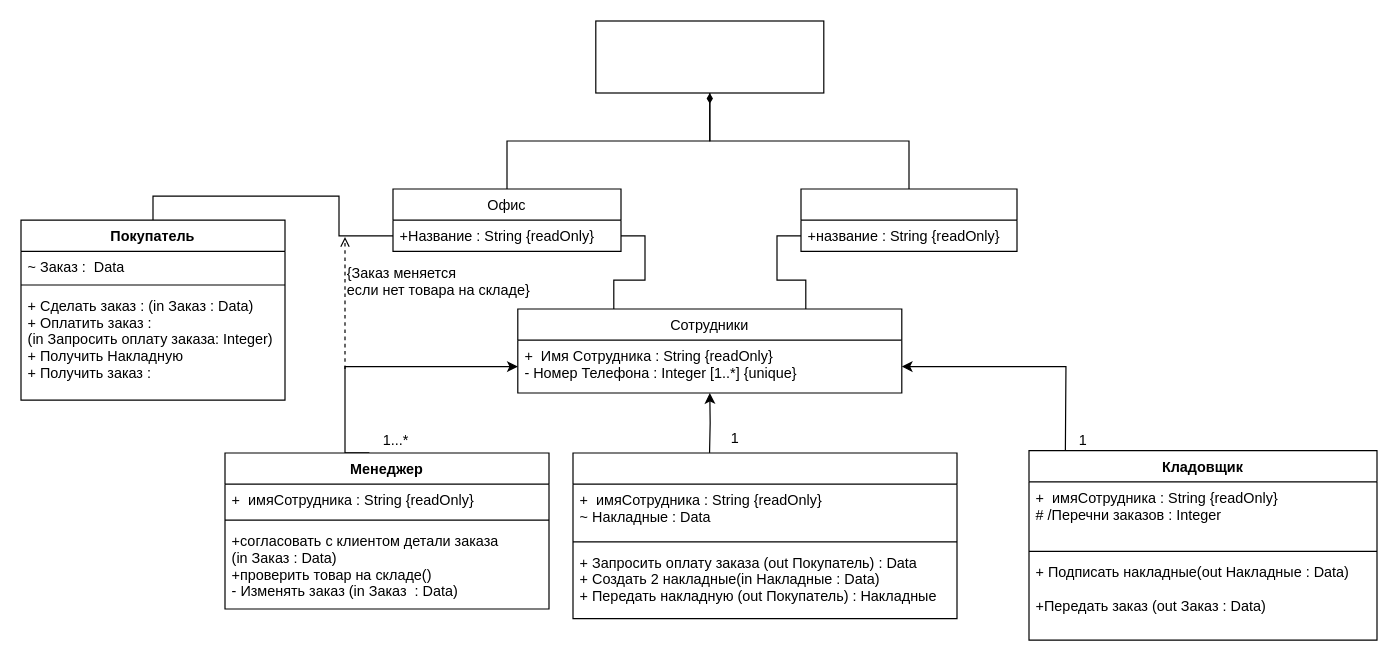
Some shapes in this 1398 by 665 pixel diagram are drawn without their labels. The box of each missing label's shape, as (x1, y1, x2, y2) in pixels:
Бухгалтер: (572, 452, 957, 619)
Магазин: (595, 20, 824, 93)
Склад: (800, 188, 1017, 251)
